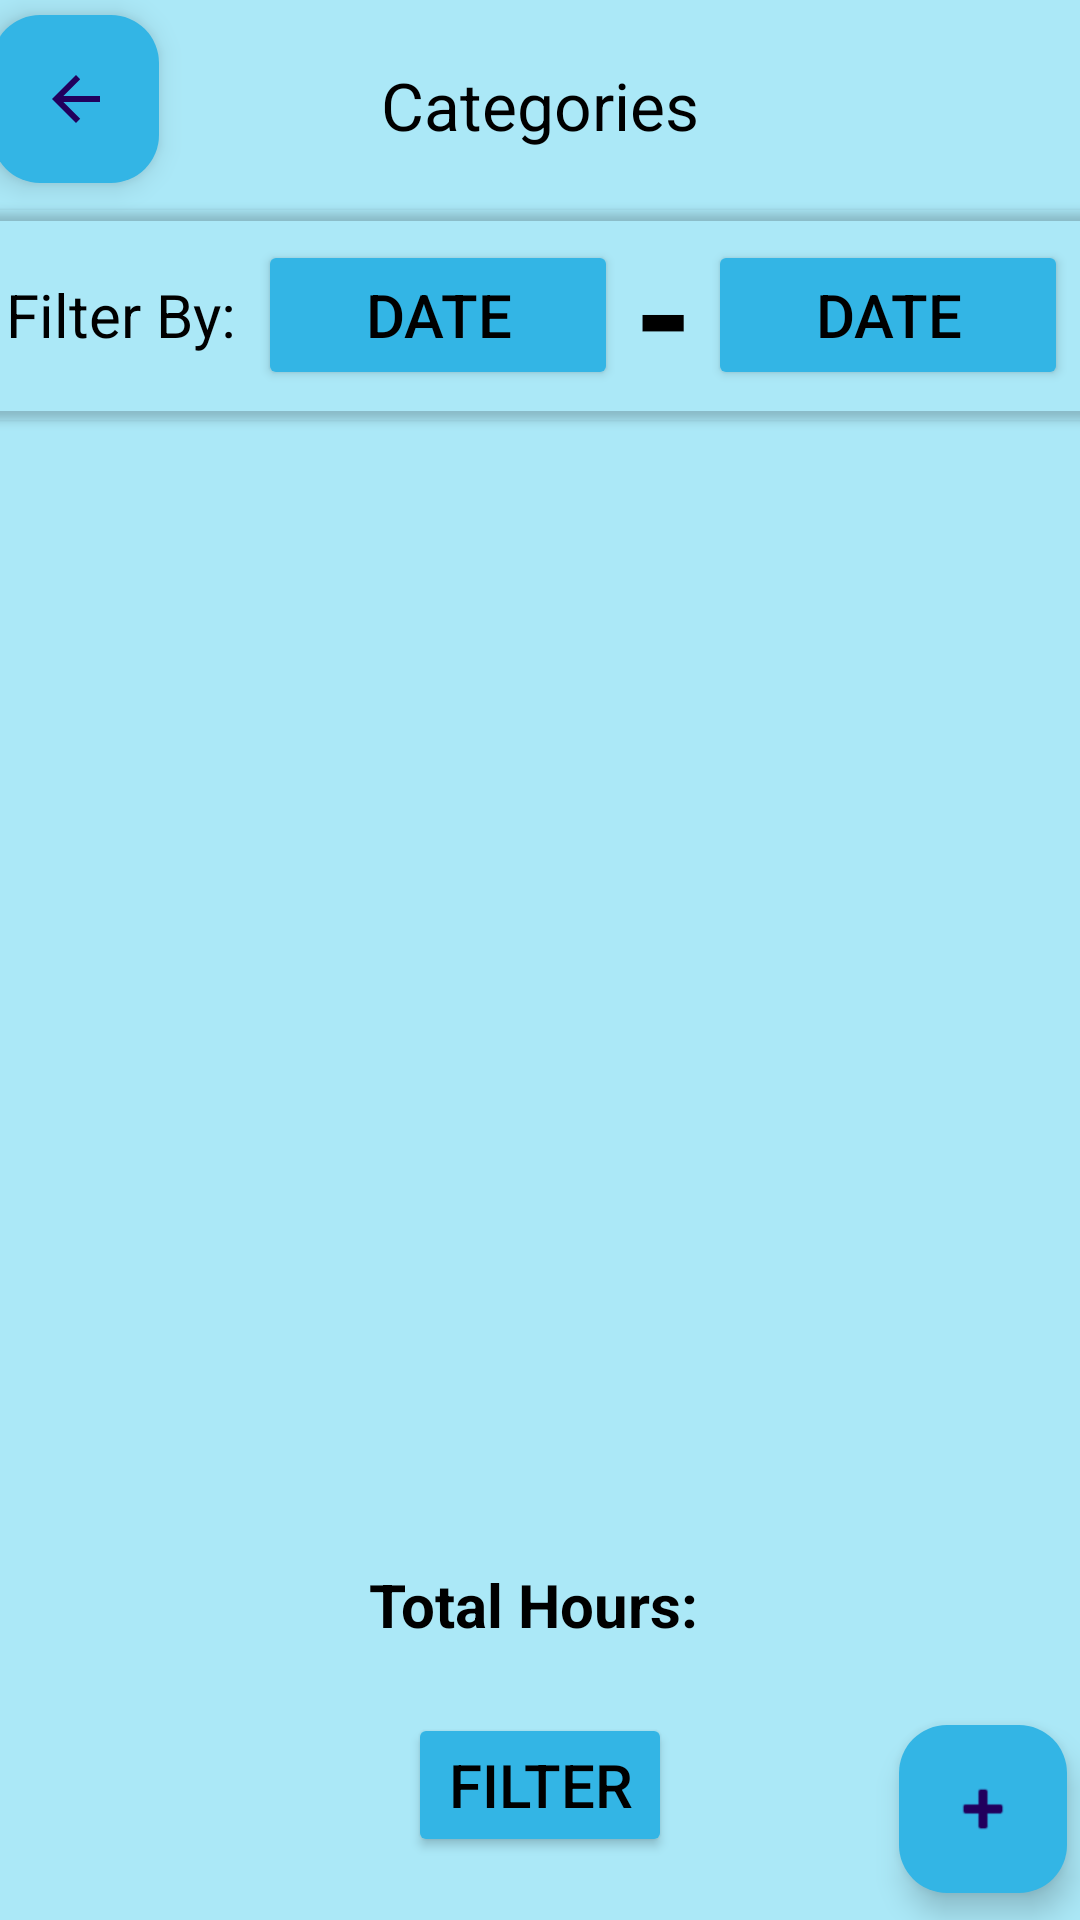

Icons on this 1080px x 1920px Android screen, each with its box as (x1, y1, x2, y2):
add: (899, 1725, 1067, 1893)
